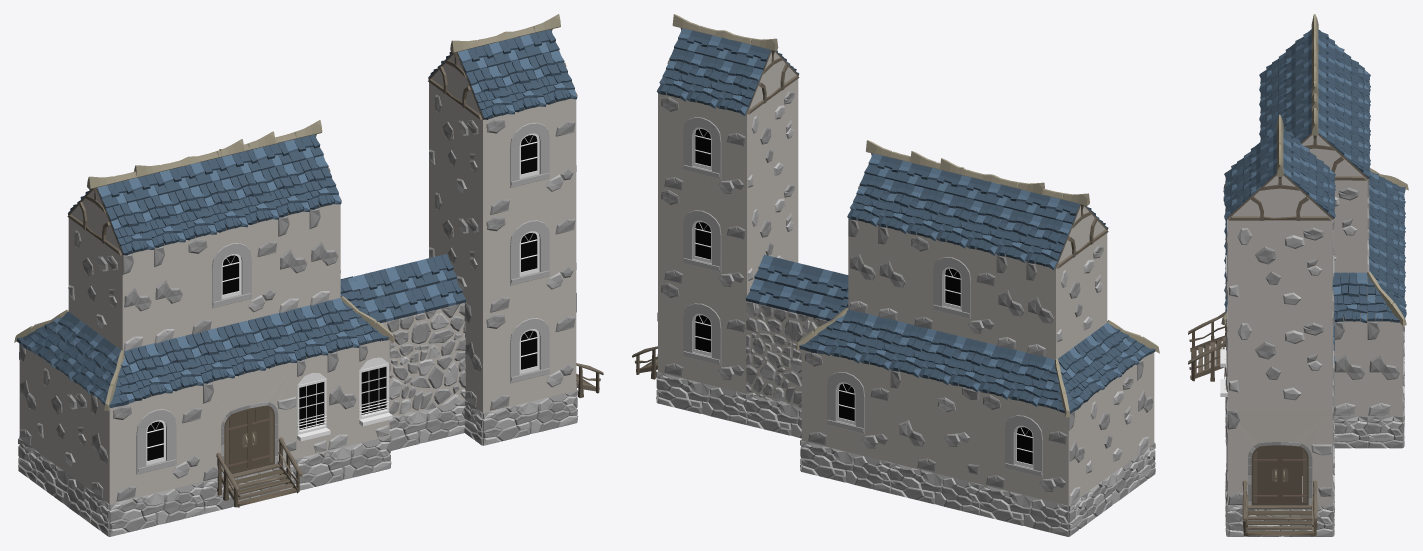
Rendered from house_10.fbx.
3 views of the same model, side by side, from view 1: azimuth 30°, elevation 25°; view 2: azimuth 150°, elevation 25°; view 3: azimuth 270°, elevation 25° (orthographic). The views are drawn at different scales.
Visible parts, largest first — view 1: WINDOW_07_18, WINDOW_07_19, WINDOW_07_20, WINDOW_07_13, WINDOW_07_17, DOOR_01_2, WALL_02_2, WALL_06_2, WALL_06_4, WALL_06_7, WALL_06_3, FOUNDATION_01_2 (+55 smaller); view 2: WALL_05_2, WINDOW_07_15, WINDOW_07_21, WINDOW_07_14, WINDOW_07_22, WINDOW_07_23, WINDOW_07_16, WALL_02_3, WALL_06_4, WALL_06_2, WALL_06_7, WALL_06_3 (+52 smaller); view 3: WALL_06_5, WALL_06_6, DOOR_01_3, WALL_03_8, WALL_03_7, WALL_06_8, STAIRS_01_3, ROOF_base_83, FOUNDATION_01_7, STAIRS_01_2, ROOF_CORNER_OUT_8, FOUNDATION_03_4 (+41 smaller).
Boxes of the visible parts, x1,y1,x2,y2 form: WINDOW_07_18: [482, 293, 576, 412]; WINDOW_07_19: [483, 195, 576, 314]; WINDOW_07_20: [483, 98, 576, 217]; WINDOW_07_13: [109, 385, 202, 503]; WINDOW_07_17: [185, 219, 278, 336]; DOOR_01_2: [203, 362, 296, 481]; WALL_02_2: [381, 303, 465, 418]; WALL_06_2: [37, 356, 91, 490]; WALL_06_4: [429, 82, 484, 217]; WALL_06_7: [68, 218, 122, 350]; WALL_06_3: [429, 178, 484, 315]; FOUNDATION_01_2: [109, 481, 203, 536]; WALL_05_2: [890, 369, 979, 483]; WINDOW_07_15: [801, 349, 890, 462]; WINDOW_07_21: [658, 279, 746, 393]; WINDOW_07_14: [979, 391, 1069, 505]; WINDOW_07_22: [658, 186, 747, 300]; WINDOW_07_23: [658, 93, 747, 207]; WINDOW_07_16: [907, 233, 996, 345]; WALL_02_3: [746, 301, 827, 407]; WALL_06_4: [745, 79, 798, 207]; WALL_06_2: [1085, 365, 1136, 492]; WALL_06_7: [1054, 233, 1107, 359]; WALL_06_3: [745, 170, 798, 300]; WALL_06_5: [1227, 315, 1332, 409]; WALL_06_6: [1227, 220, 1332, 314]; DOOR_01_3: [1227, 410, 1332, 505]; WALL_03_8: [1367, 321, 1402, 416]; WALL_03_7: [1334, 321, 1367, 416]; WALL_06_8: [1333, 180, 1367, 273]; STAIRS_01_3: [1242, 480, 1317, 536]; ROOF_base_83: [1332, 272, 1367, 323]; FOUNDATION_01_7: [1227, 505, 1332, 536]; STAIRS_01_2: [1188, 312, 1226, 381]; ROOF_CORNER_OUT_8: [1367, 271, 1406, 326]; FOUNDATION_03_4: [1367, 416, 1402, 448].
Bounding box in the file's own units: 1632 × 1186 × 632.
